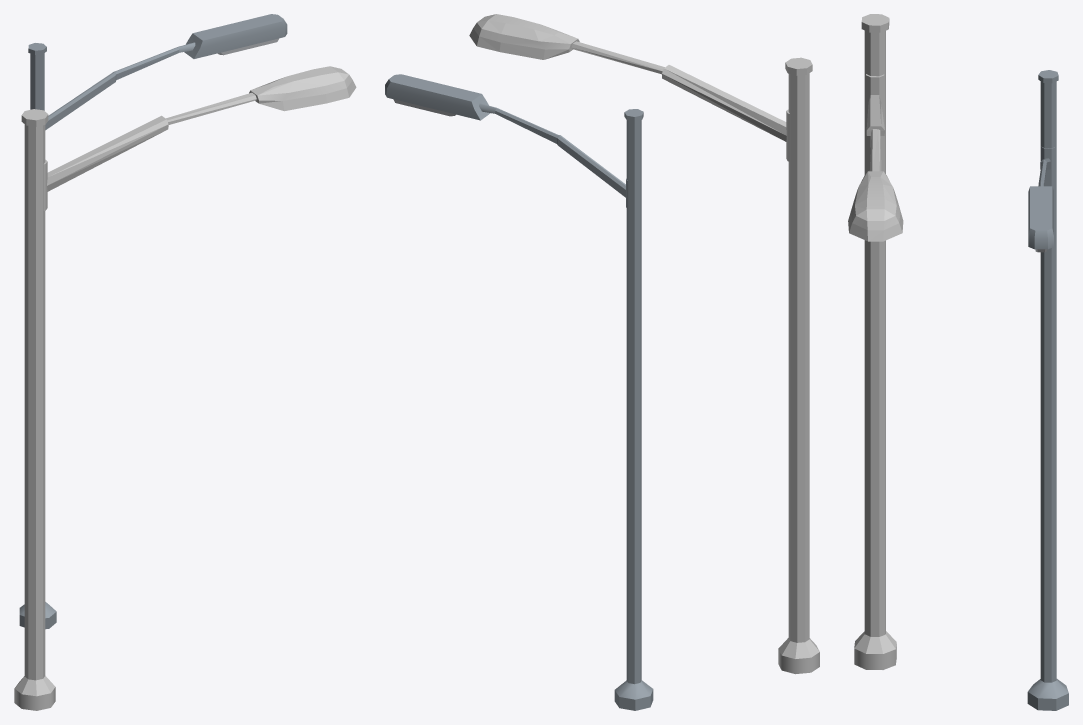
Rendered from Poste de Luz 2 (2).FBX.
The picture shows the model from 3 angles, left to right: view 1: azimuth 30°, elevation 25°; view 2: azimuth 150°, elevation 25°; view 3: azimuth 270°, elevation 25°; orthographic projection. The views are drawn at different scales.
Visible parts, largest first — view 1: MPStreetLamp, LPStreetLamp; view 2: MPStreetLamp, LPStreetLamp; view 3: MPStreetLamp, LPStreetLamp.
Boxes of the visible parts, bbox=[...] form: MPStreetLamp: bbox=[14, 66, 356, 710]; LPStreetLamp: bbox=[19, 14, 287, 629]; MPStreetLamp: bbox=[469, 14, 819, 674]; LPStreetLamp: bbox=[385, 74, 653, 710]; MPStreetLamp: bbox=[848, 14, 903, 669]; LPStreetLamp: bbox=[1027, 70, 1068, 710].
Size of the model in its own units: 45.92 by 75.42 by 23.53.
